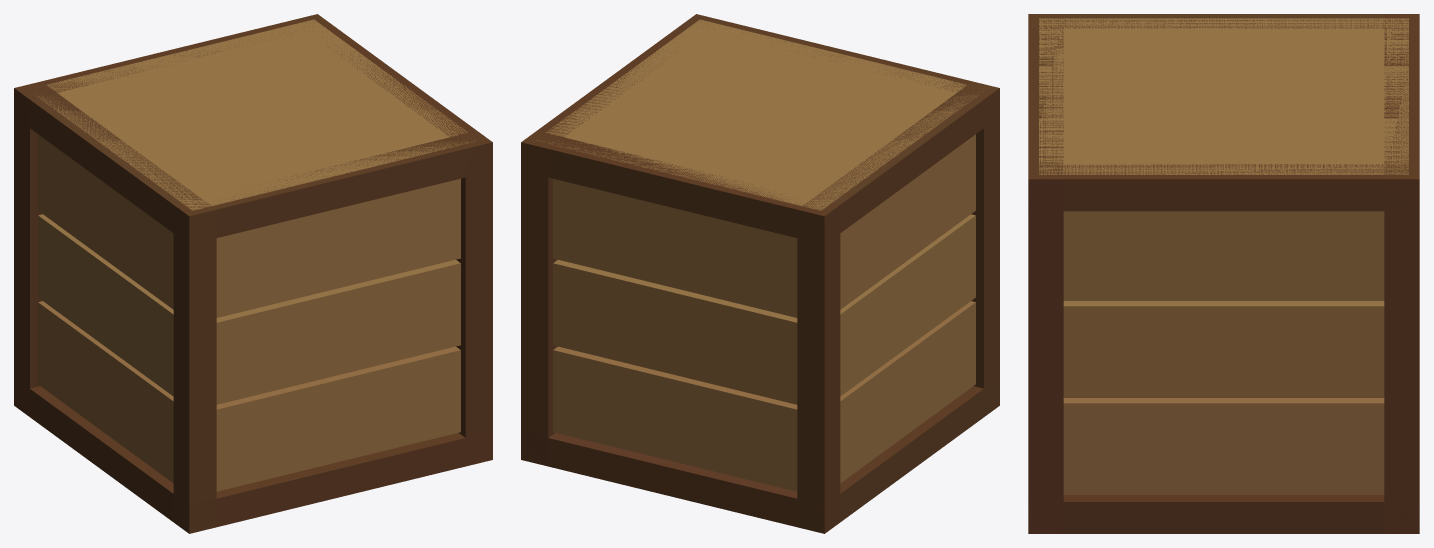
File: crate.glb
3 renders of one model, left to right at view 1: azimuth 30°, elevation 25°; view 2: azimuth 150°, elevation 25°; view 3: azimuth 270°, elevation 25°, orthographic. The views are drawn at different scales.
Parts seen in each view (by area): view 1: crate_solid; view 2: crate_solid; view 3: crate_solid.
Boxes of the visible parts, x1=… form: crate_solid: x1=14, y1=14, x2=492, y2=533; crate_solid: x1=521, y1=14, x2=999, y2=533; crate_solid: x1=1028, y1=14, x2=1419, y2=533.
Size of the model in its own units: 0.8 by 0.8 by 0.8.
